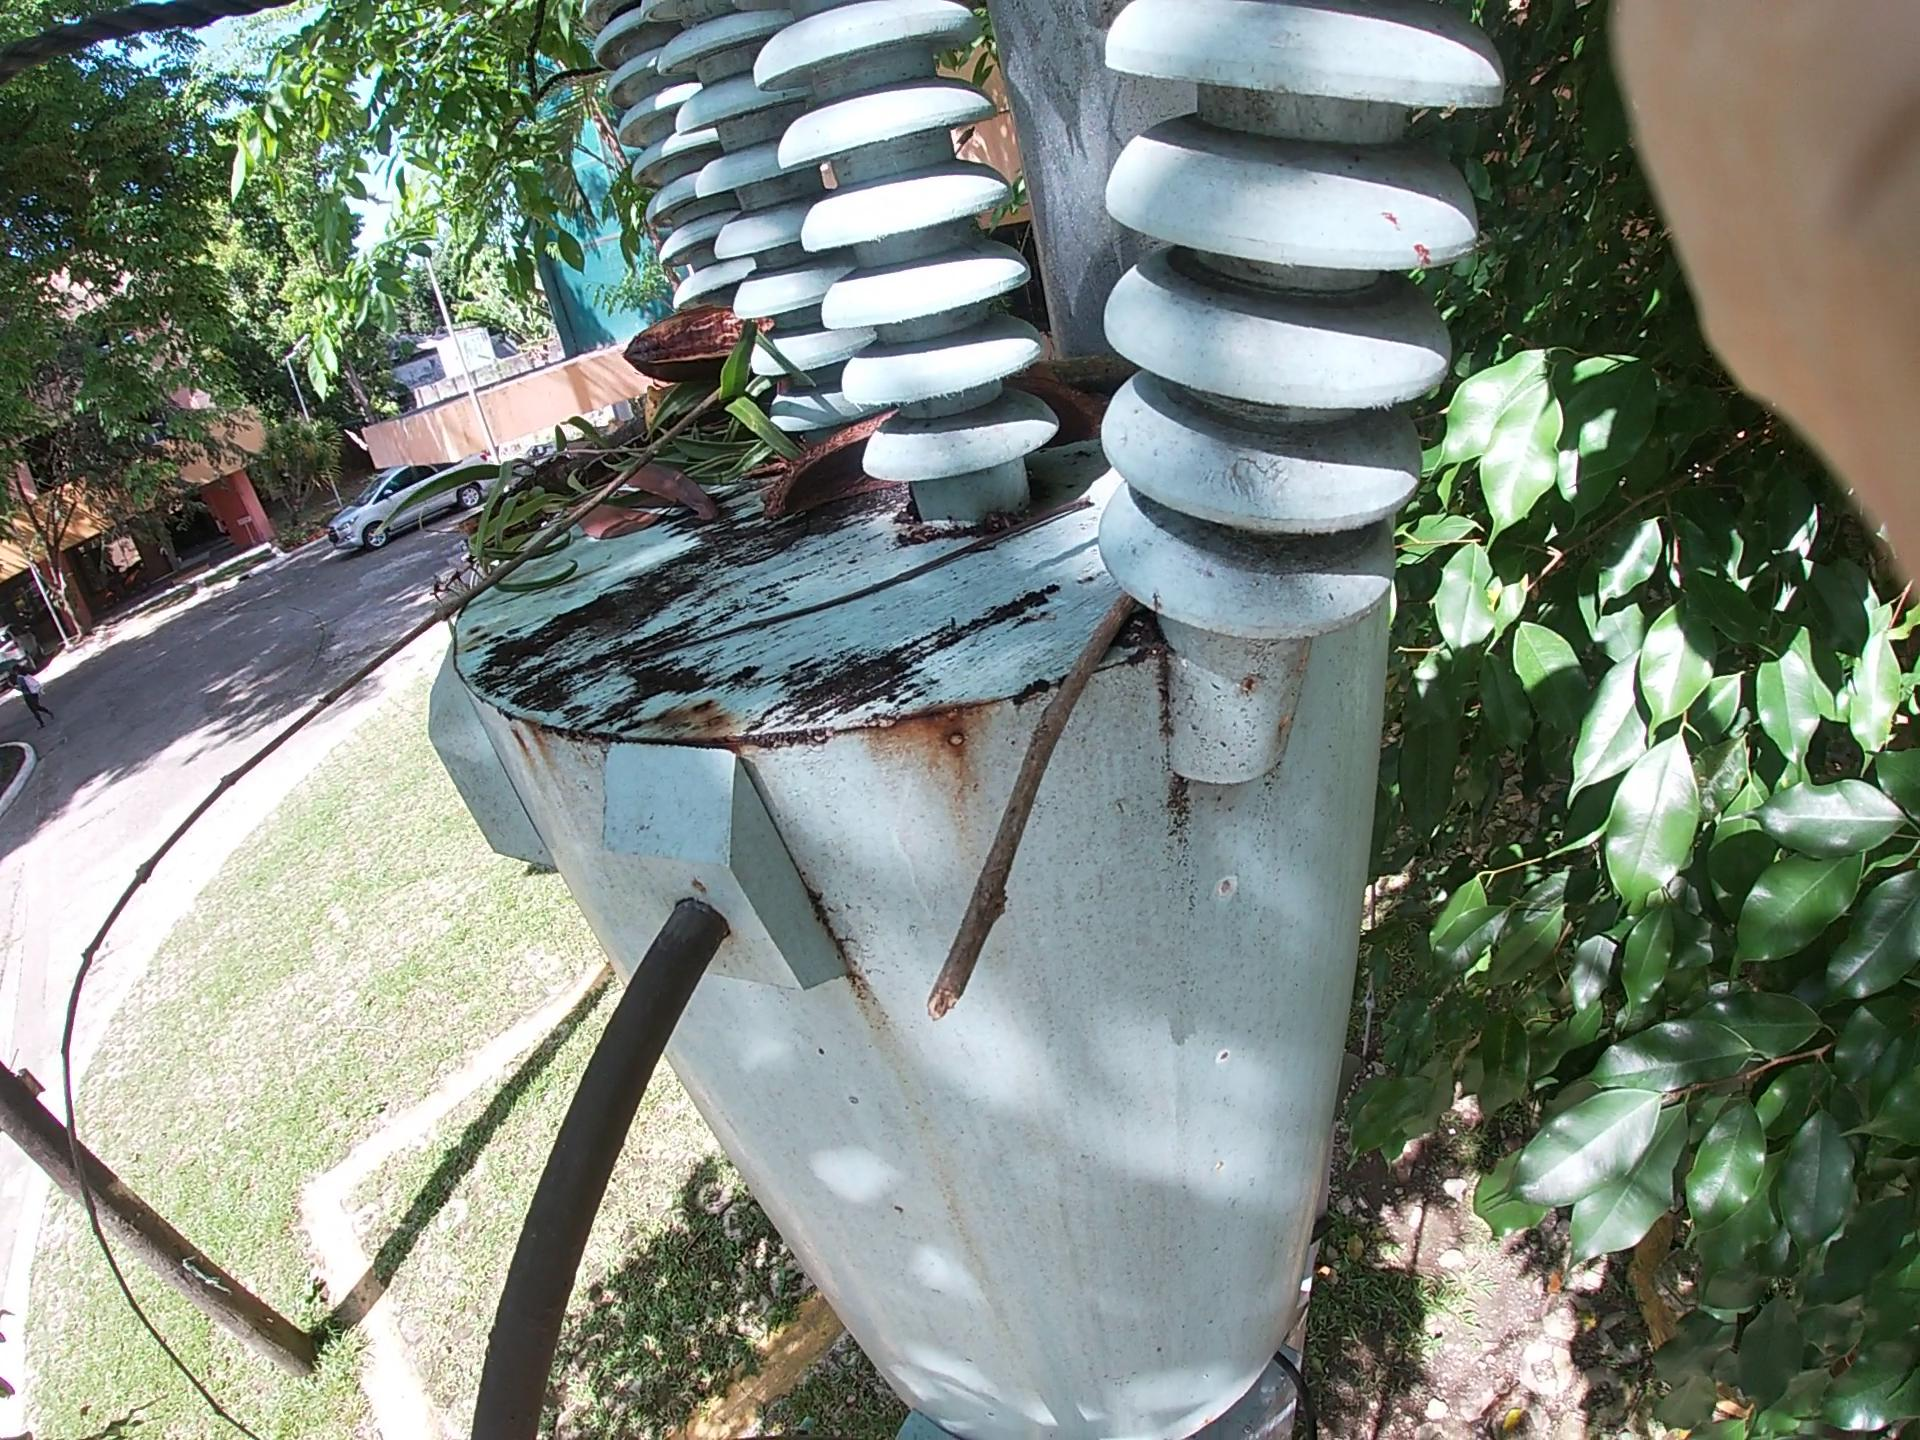branch with leaves: (352, 195, 903, 617)
leaf: (513, 349, 831, 582)
mahogany fruit: (763, 417, 965, 604), (608, 275, 777, 413)
tree branch: (39, 355, 768, 1023), (980, 549, 1222, 1001), (655, 510, 996, 684)
